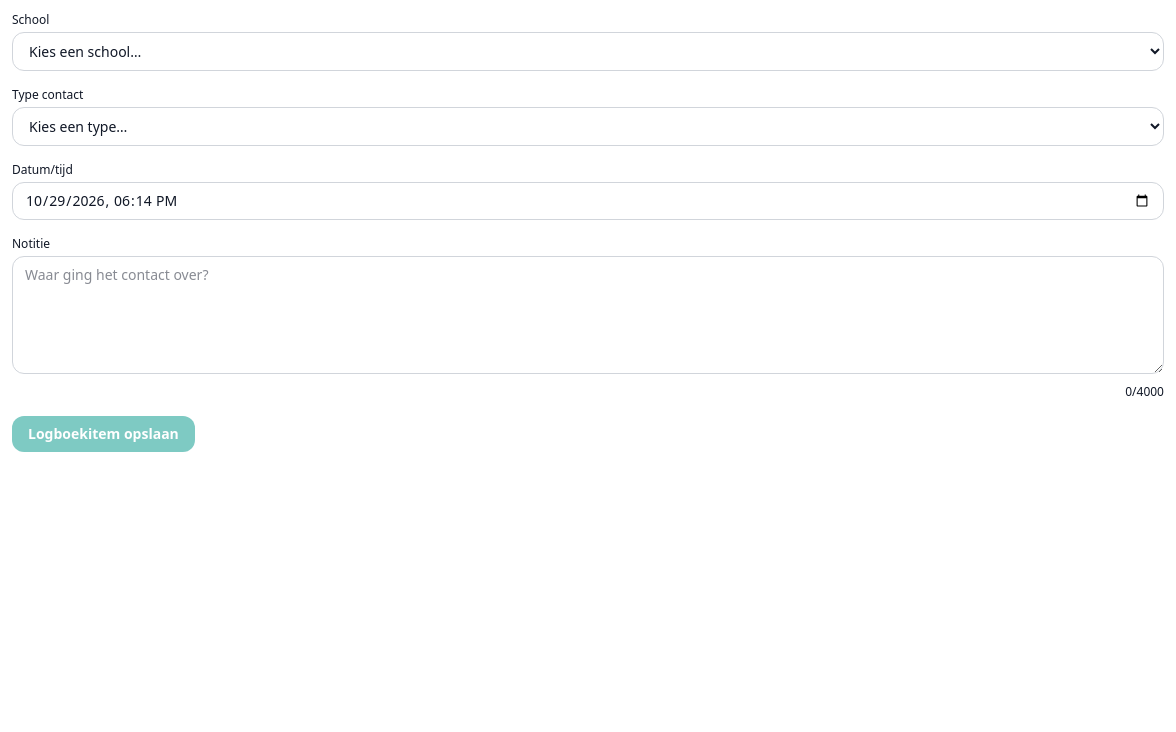
Scenario: LogboekForm › toont de foutmelding van de server en blijft op de pagina bij een mislukte opslag
Select "School A" in the dropdown labelled "School": (588, 52) [12,32,1164,71]
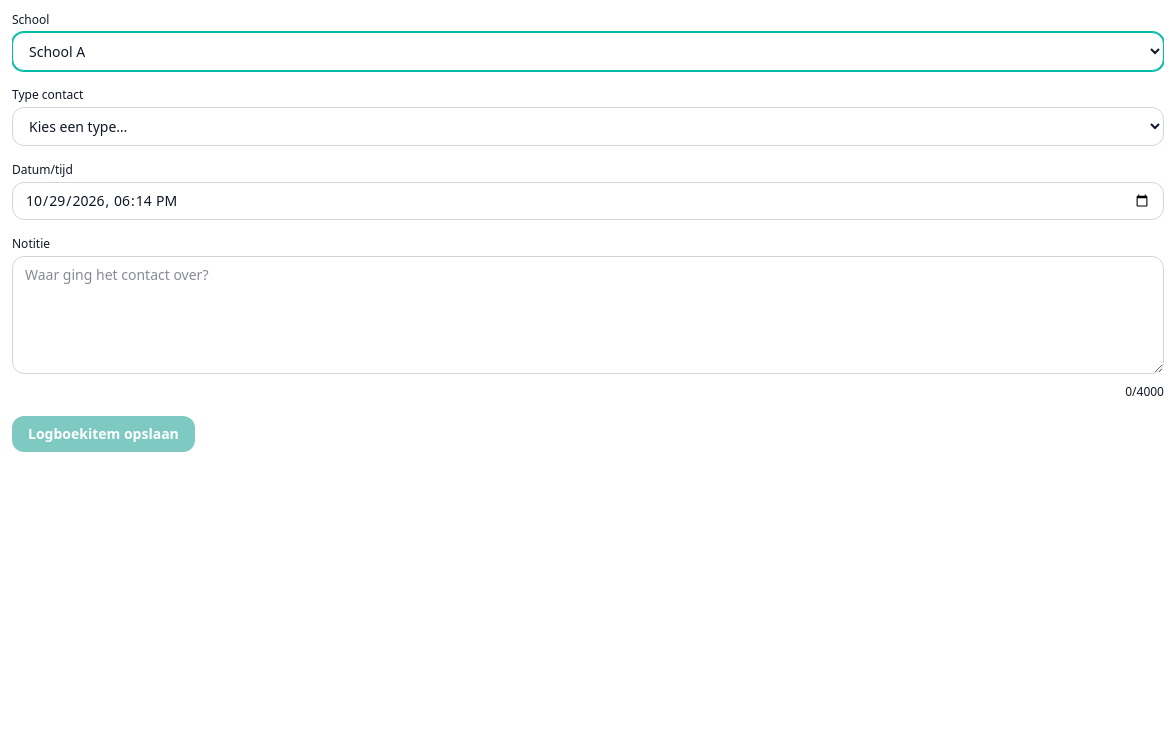
Select "Notitie" in the dropdown labelled "Type contact": (588, 126) [12,107,1164,146]
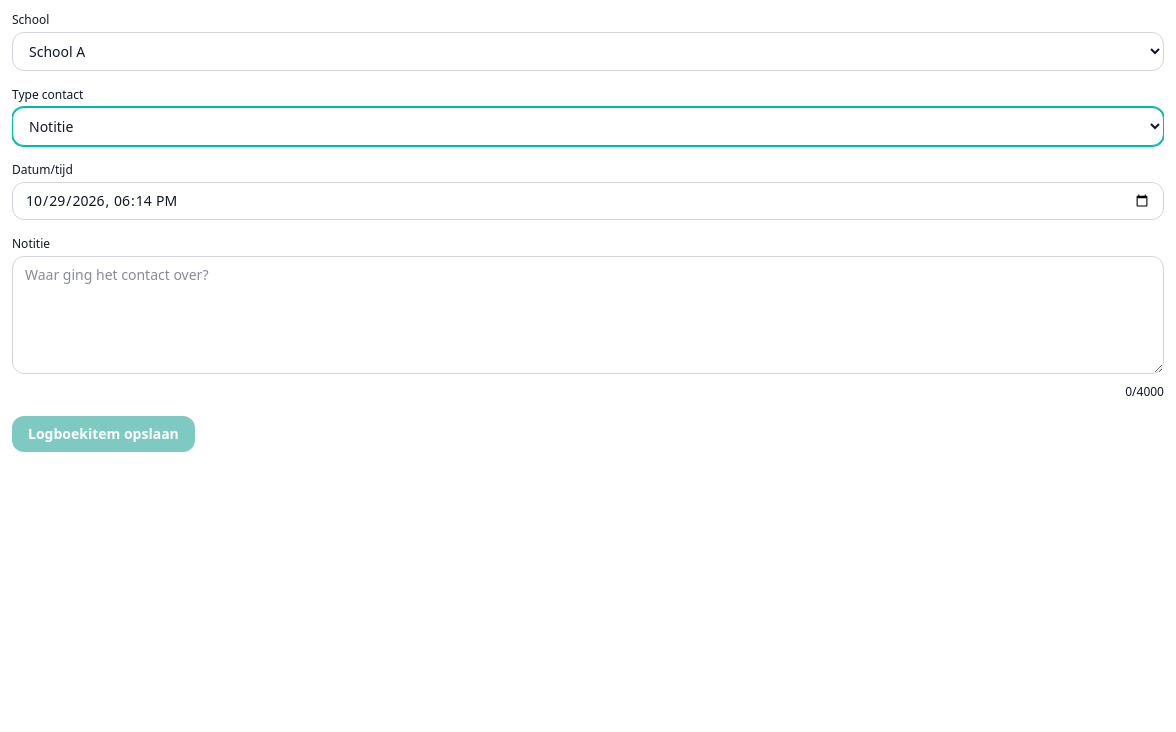
In the text box labelled "Notitie": (588, 315) [12,256,1164,374], type "Test."
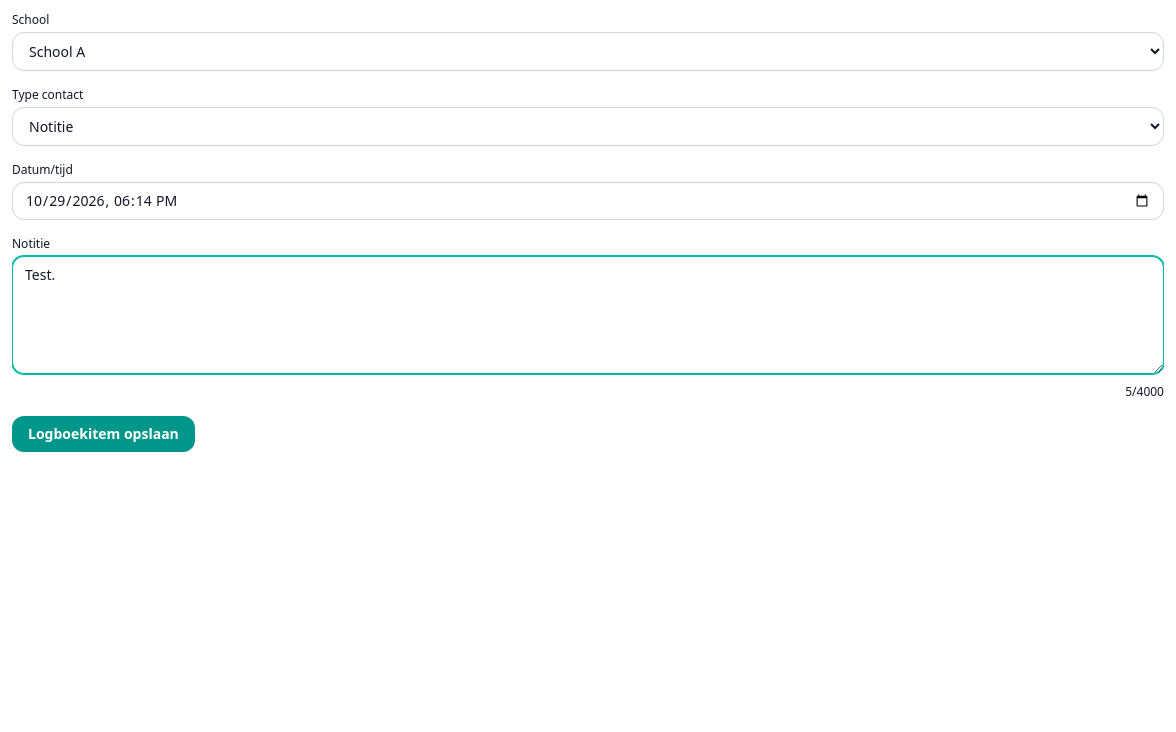
Click the button "Logboekitem opslaan": (103, 434) [12,416,195,452]
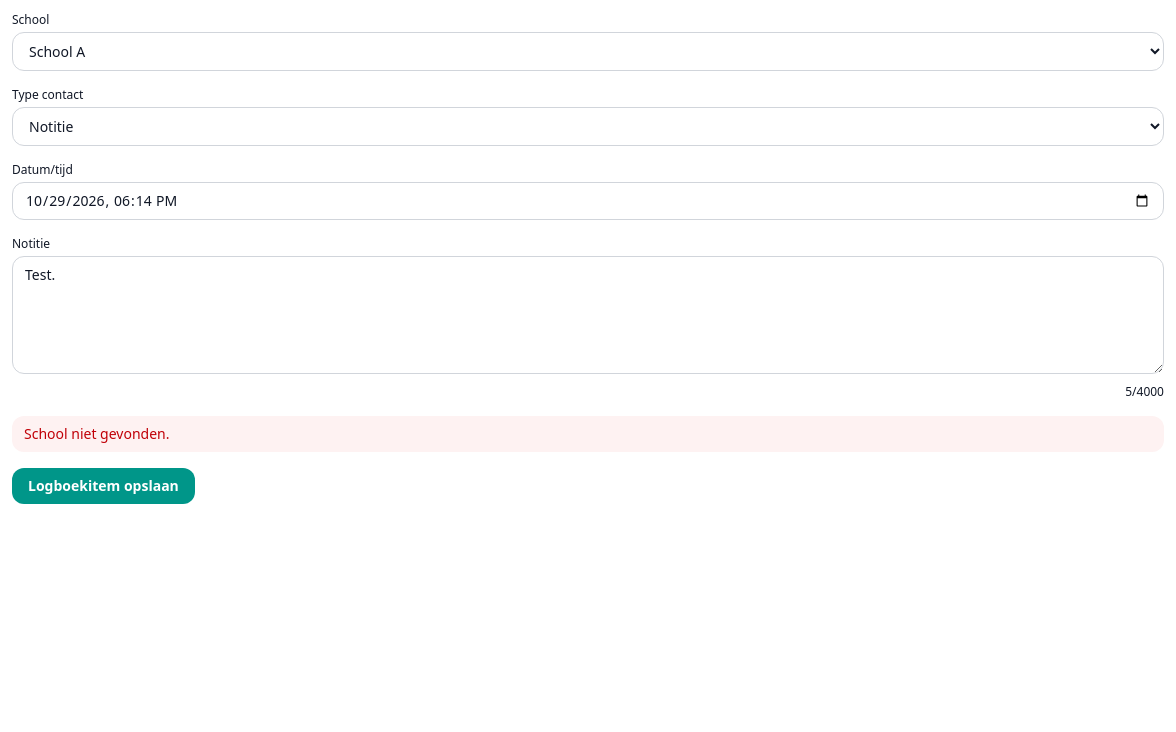
Check: the text "School niet gevonden." is shown, box [12,416,1164,452]
